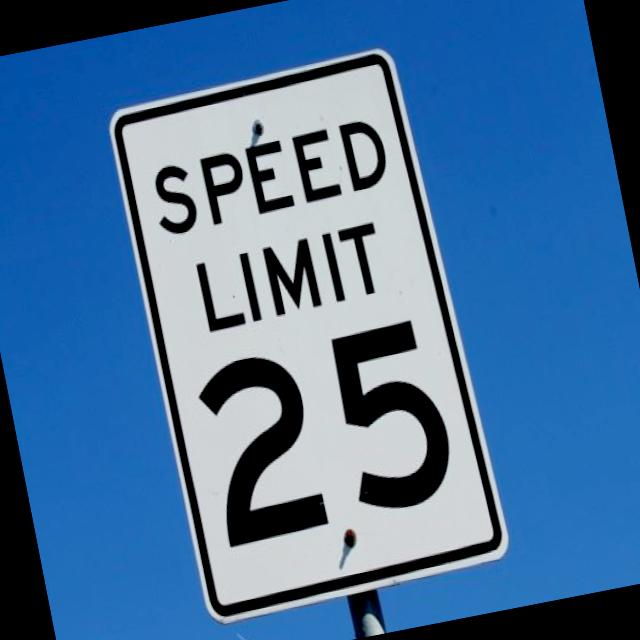Speed Limit Signs: (103, 42, 516, 628)
